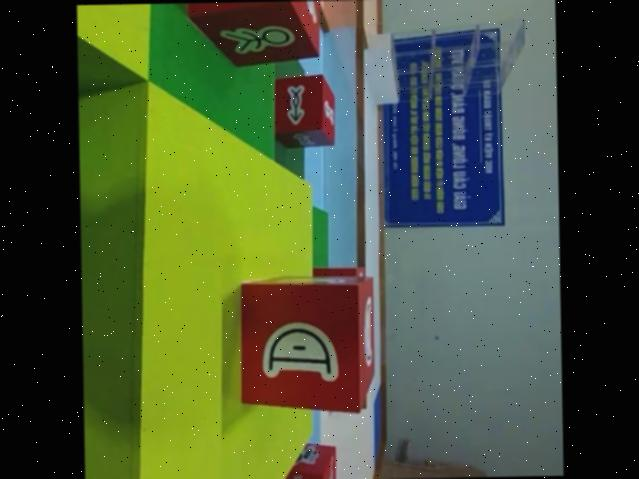R1: (266, 440, 339, 479)
R2 Real: (235, 268, 378, 415), (181, 0, 323, 68), (269, 72, 338, 148)
